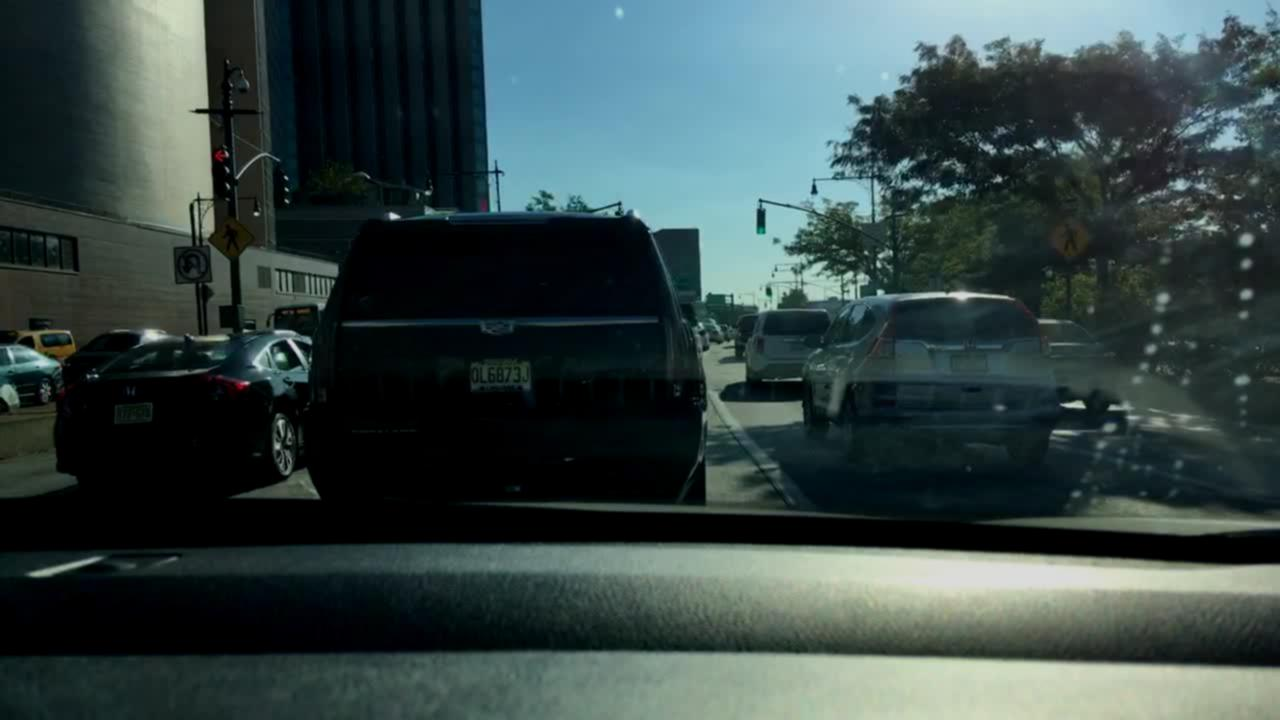Honda: (119, 378, 142, 404), (961, 336, 981, 354)
cadillac: (470, 312, 532, 345)
